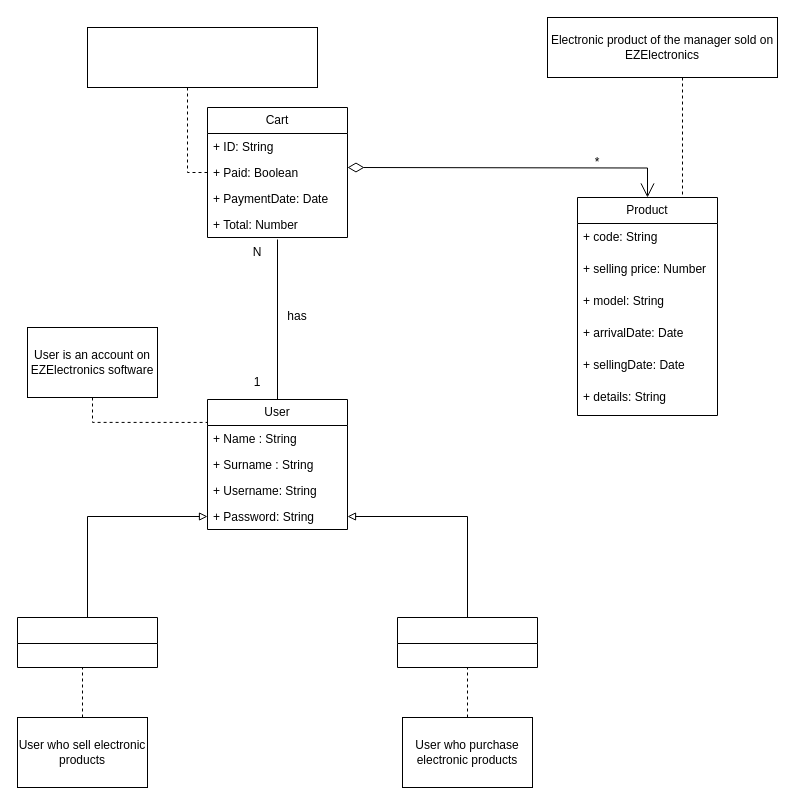
Some shapes in this 795 by 805 pixel diagram are drawn without their labels. The centre of each missing label's shape, as x and y in pixels:
Customer: the point at 467,642
List of all the products customer wants to buy or has already bought: the point at 202,57
Manager: the point at 87,642
